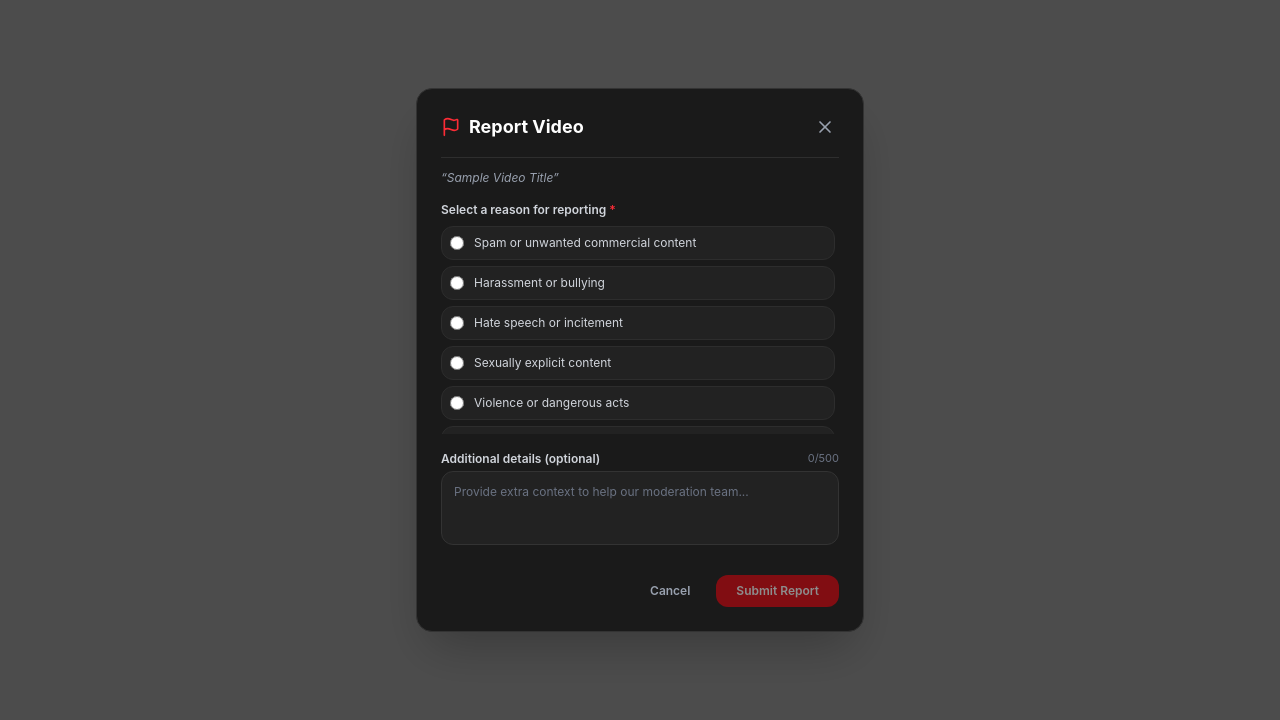
Test: Admin & Moderation UI (Task U4) › 2. User Reporting (ReportDialog) › renders report dialog and submits report with reason and note
Expected: the heading "Report Video" is shown, [469,113,584,141]
Expected: the text "“Sample Video Title”" is shown, [441,170,559,185]
Note: Select reason
Click the radio button labelled "Spam or unwanted commercial content".
click(457, 243)  # box [450,236,464,250]
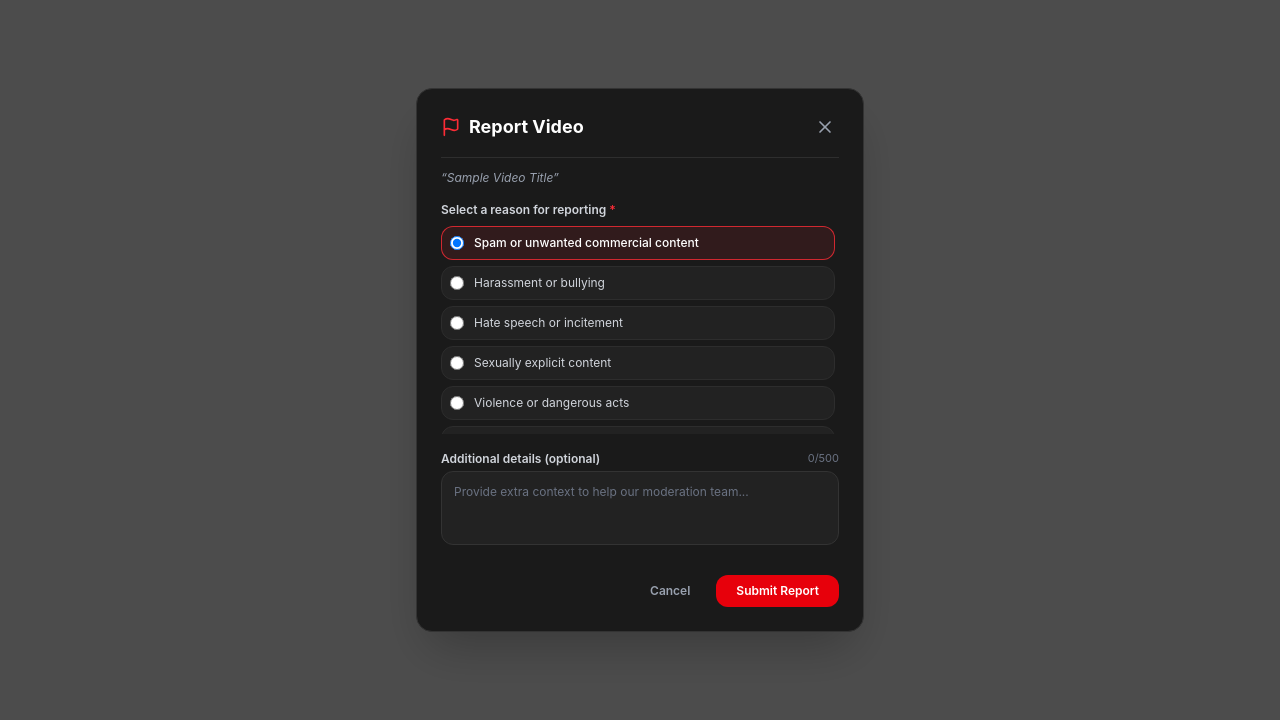
Type "Spam promotional link in description." into the text box with placeholder "Provide extra context to help our moderation team...".
click(640, 508); type("Spam promotional link in description.")  # box [441,471,839,545]
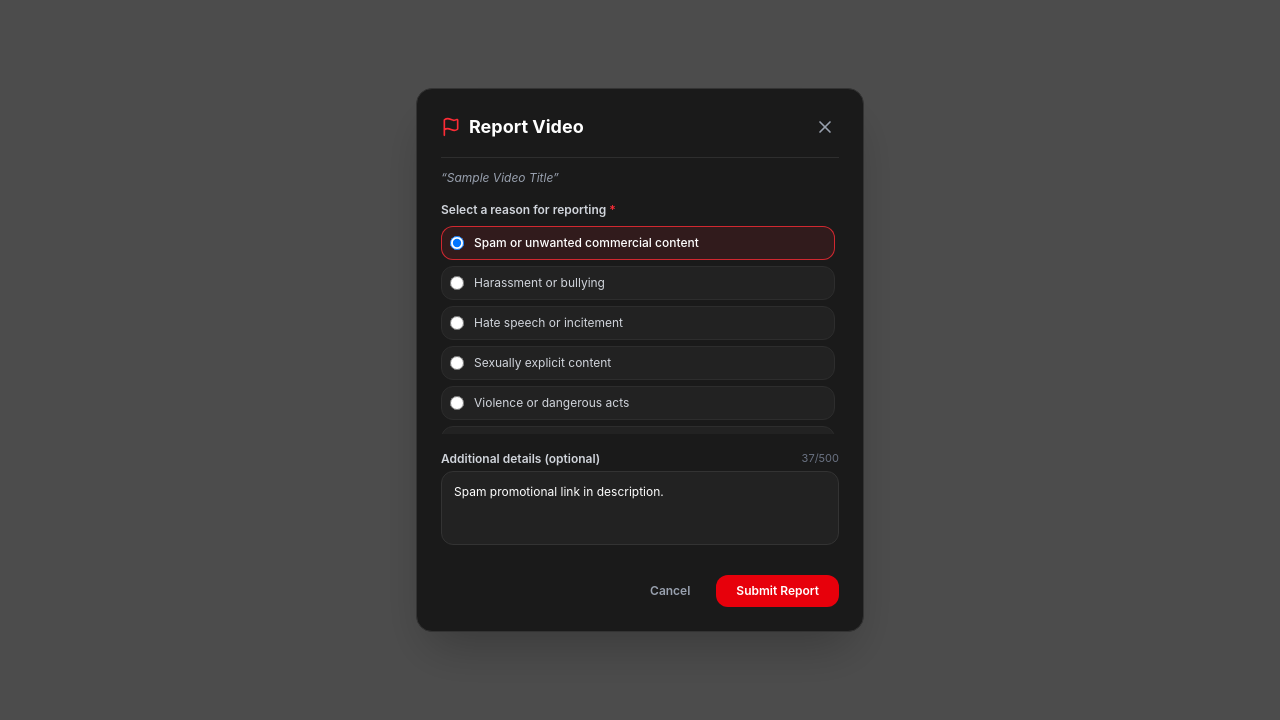
Click the button "Submit Report".
click(778, 591)  # box [716,575,839,607]
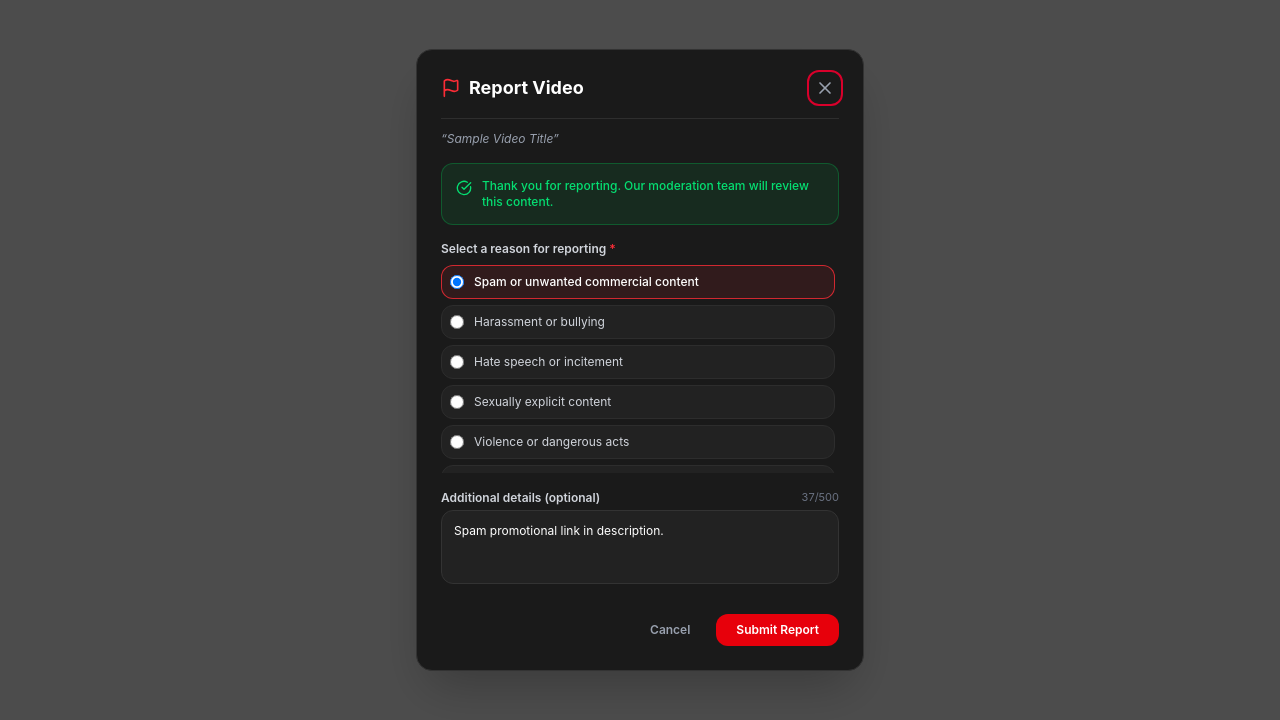
Result: the text "Thank you for reporting. Our moderation team will review this content." is shown at [482,178,824,210]
